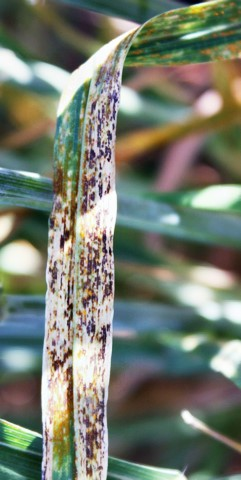Leaf Rust: (46, 85, 131, 415)
